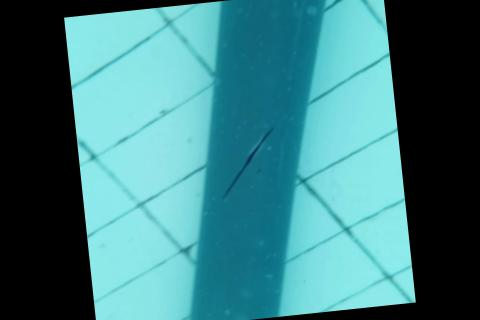keretakan: (214, 126, 282, 200)
